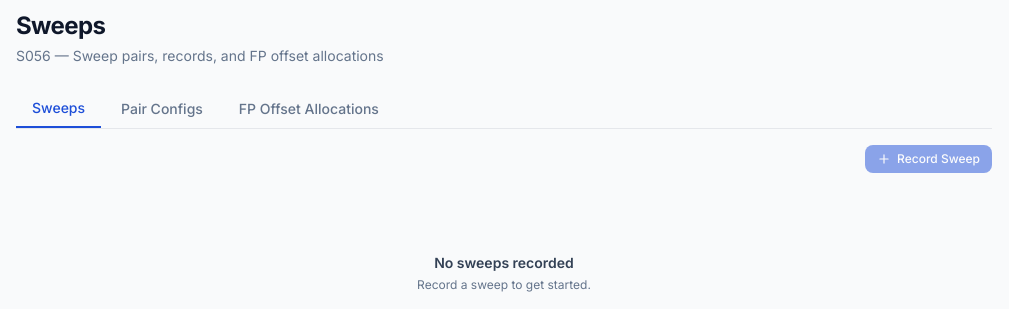
Test: Sweeps › FP Allocations tab shows empty state
Click the button "FP Offset Allocations" at (309, 109), box [223, 90, 395, 128]
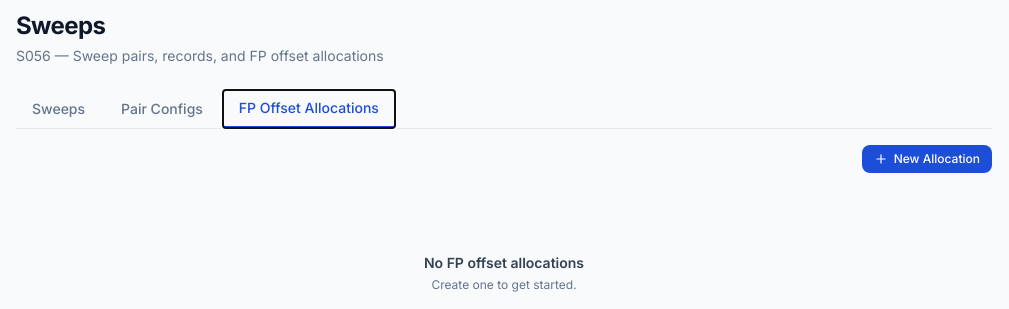
Expected: the text "No FP offset allocations" is shown, [424, 253, 584, 273]
